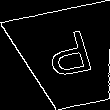P_S: (40, 29, 98, 87)
